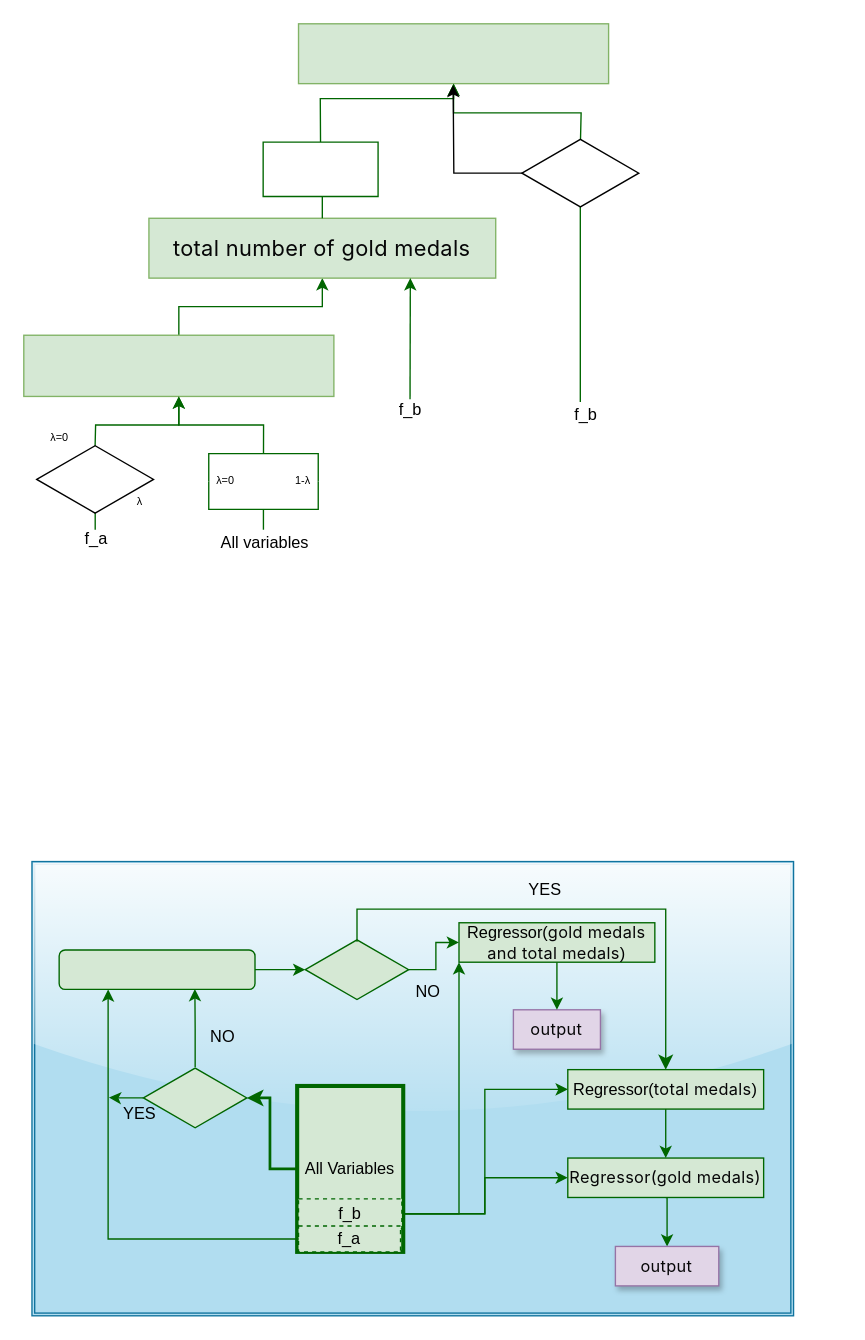
Image size: 865x1340. Some labels were removed from this diagram. Here are the shapes that lost their labels. From the top down, the centre of each, then its label:
the point at 453,53: total number of medals
the point at 178,365: Whether won an award
the point at 156,969: Classifier(Whether won an award)
the point at 356,969: if large country
the point at 194,1097: if small country
